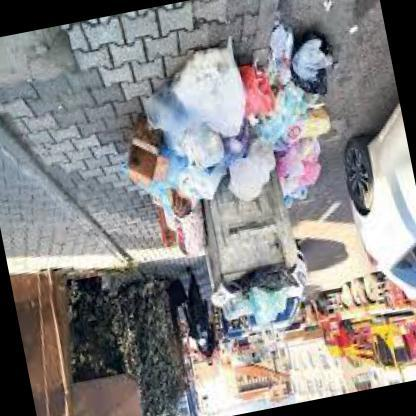Garbage: (131, 7, 357, 209), (252, 3, 364, 209), (134, 128, 207, 260), (212, 262, 314, 334)
